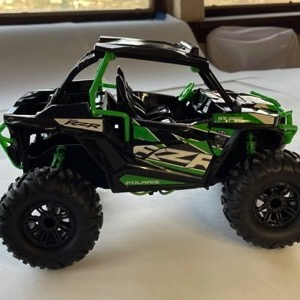polaris: (3, 33, 299, 272)
